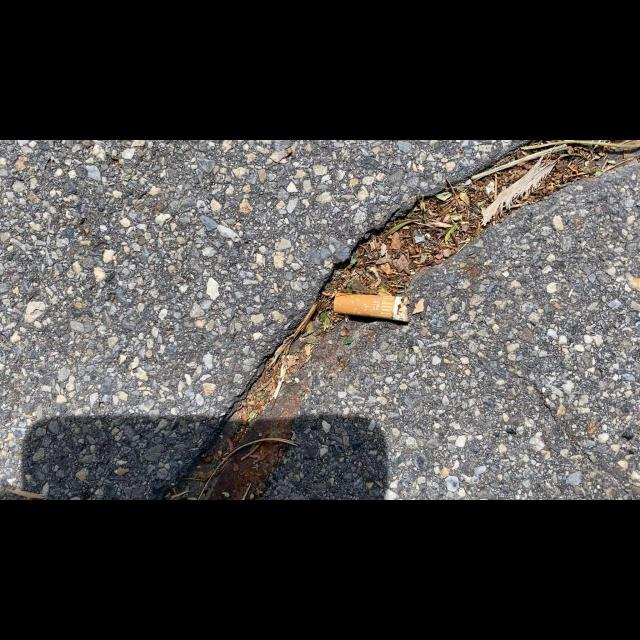cigarette: (333, 290, 411, 323)
